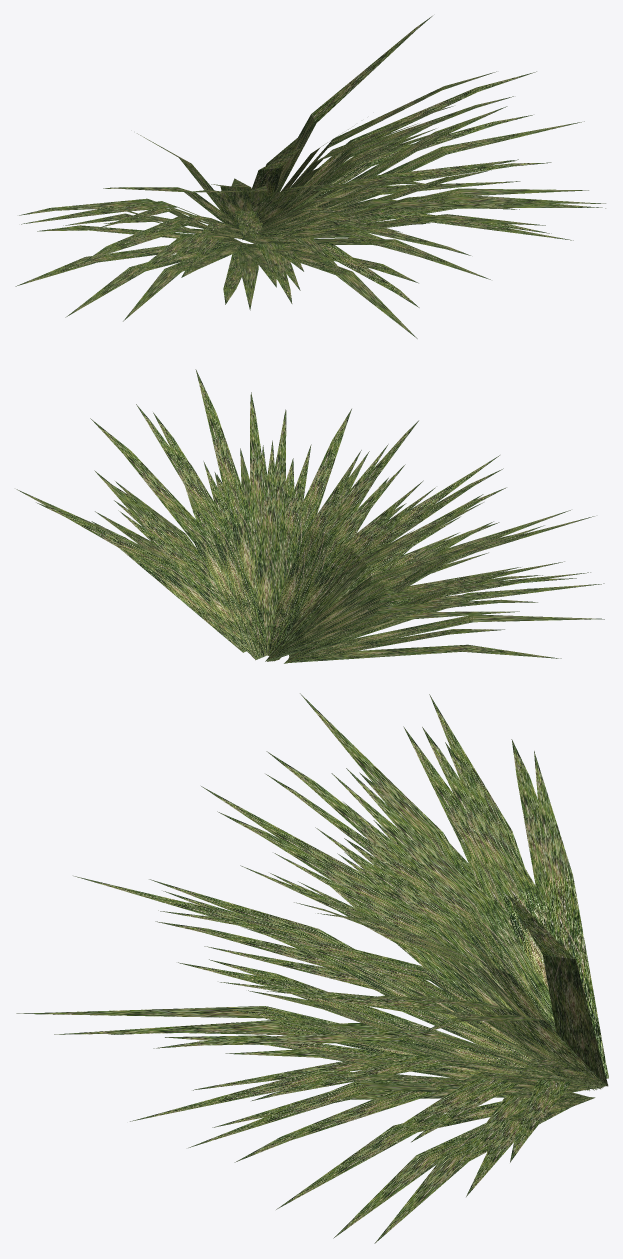
3 views of the same model, one above another, from view 1: azimuth 30°, elevation 25°; view 2: azimuth 150°, elevation 25°; view 3: azimuth 270°, elevation 25° (orthographic). The views are drawn at different scales.
Visible parts, largest first — view 1: Grass_01; view 2: Grass_01; view 3: Grass_01.
Part boxes in pixels (box(x1,y1,x2,y2)): Grass_01: box(15, 16, 605, 338); Grass_01: box(16, 369, 604, 663); Grass_01: box(16, 693, 608, 1243).
Bounding box in the file's own units: 1.75 × 0.5801 × 1.02.
